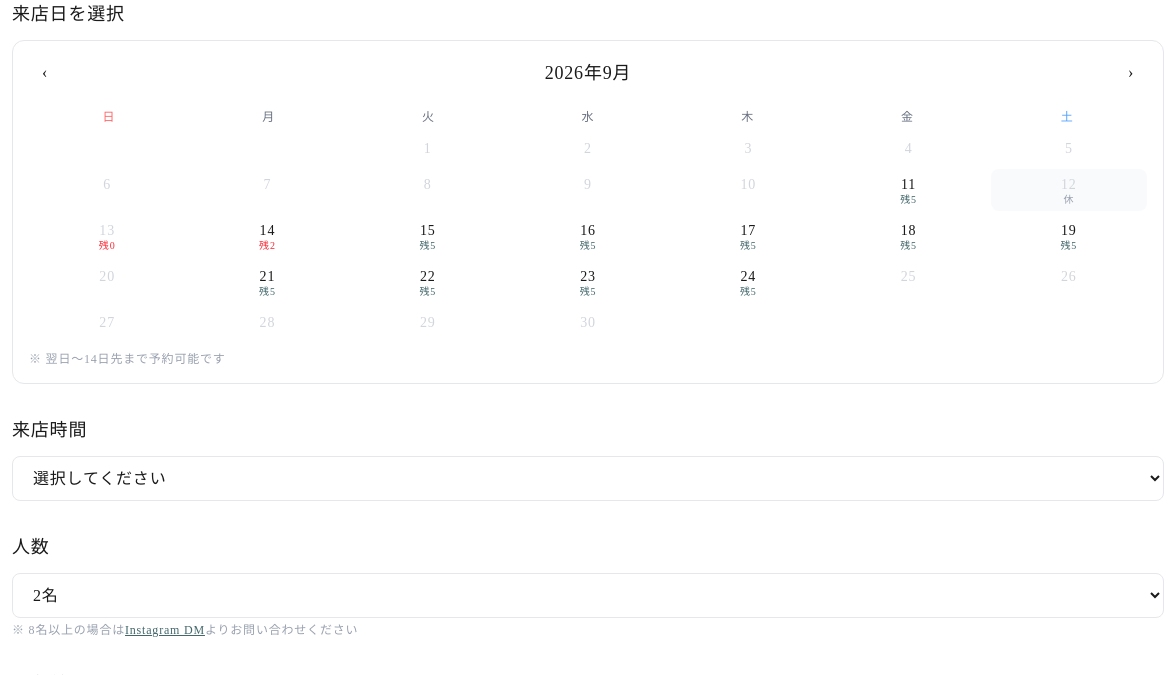
Test: ReservationForm › 月移動で翌月のカレンダーを表示する
The width and height of the screenshot is (1176, 675).
Expected: the text "2026年9月" is shown, [545, 59, 631, 87]
Click the button "›" at (1131, 73), box [1115, 57, 1147, 89]
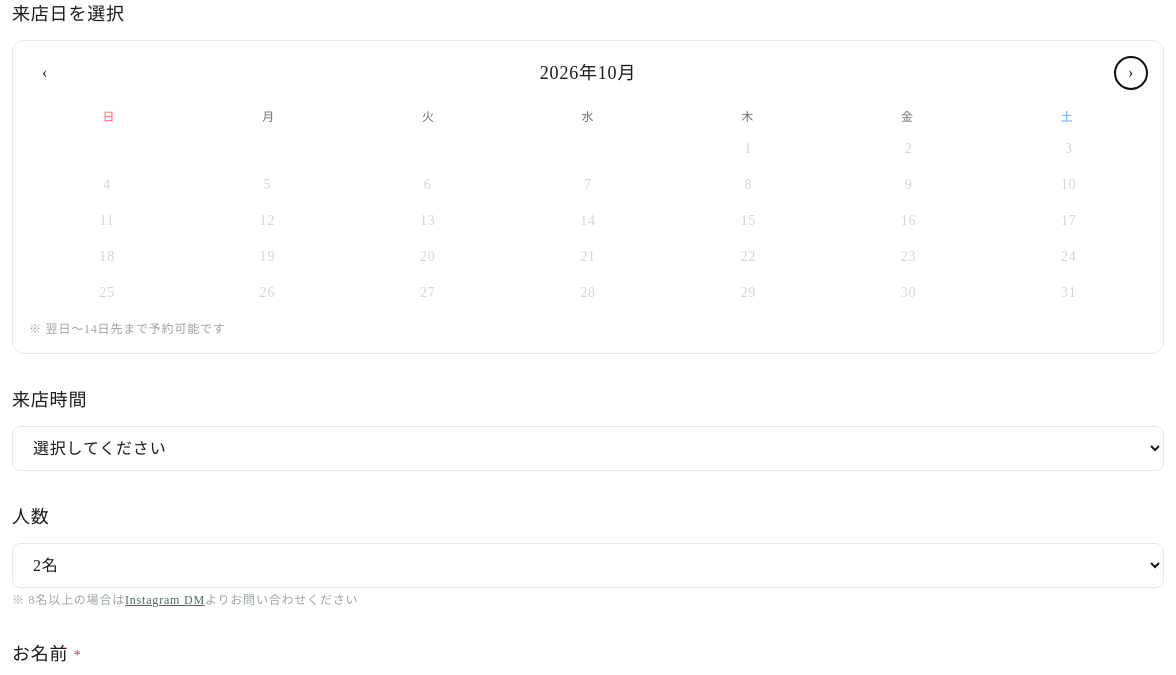
Expected: the text "2026年10月" is shown, [540, 59, 636, 87]
Click the button "‹" at (45, 73), box [29, 57, 61, 89]
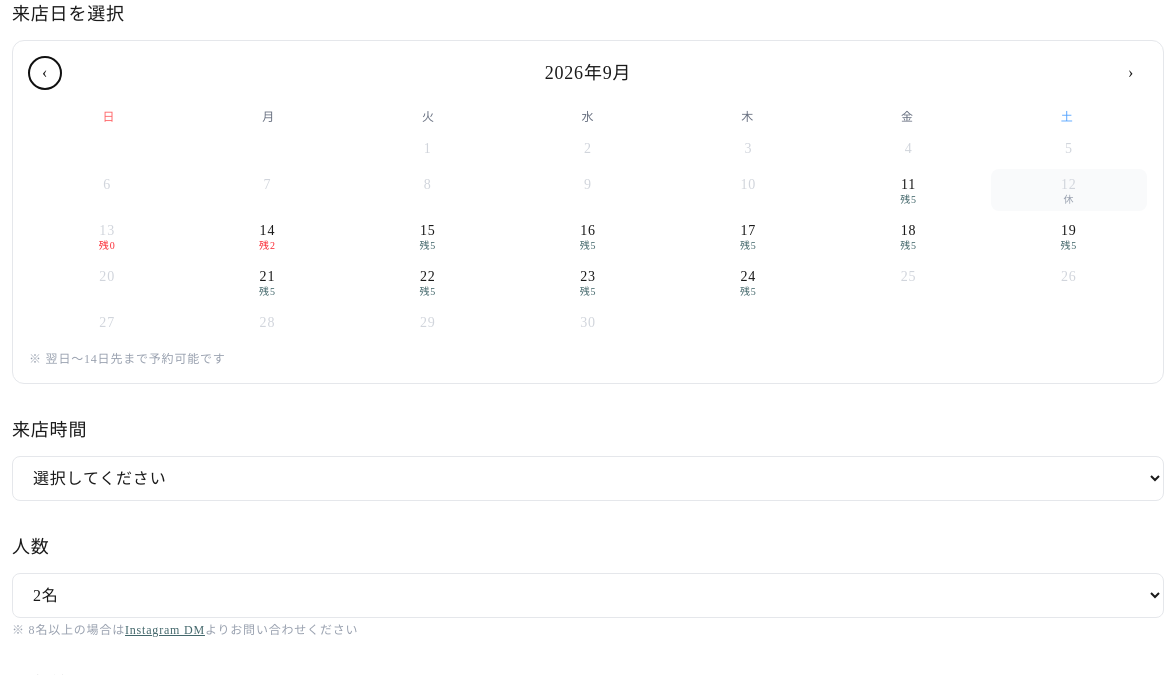
Expected: the text "2026年9月" is shown, [545, 59, 631, 87]
